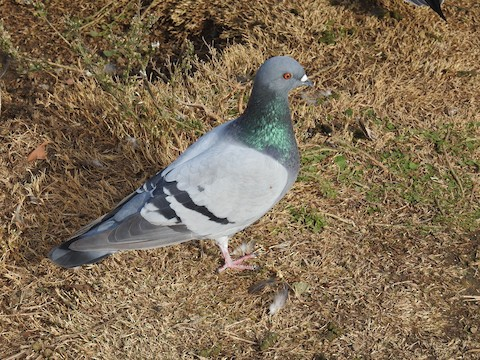pigeon: (45, 46, 324, 286)
